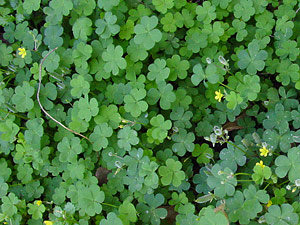oxalis: (5, 3, 296, 225)
